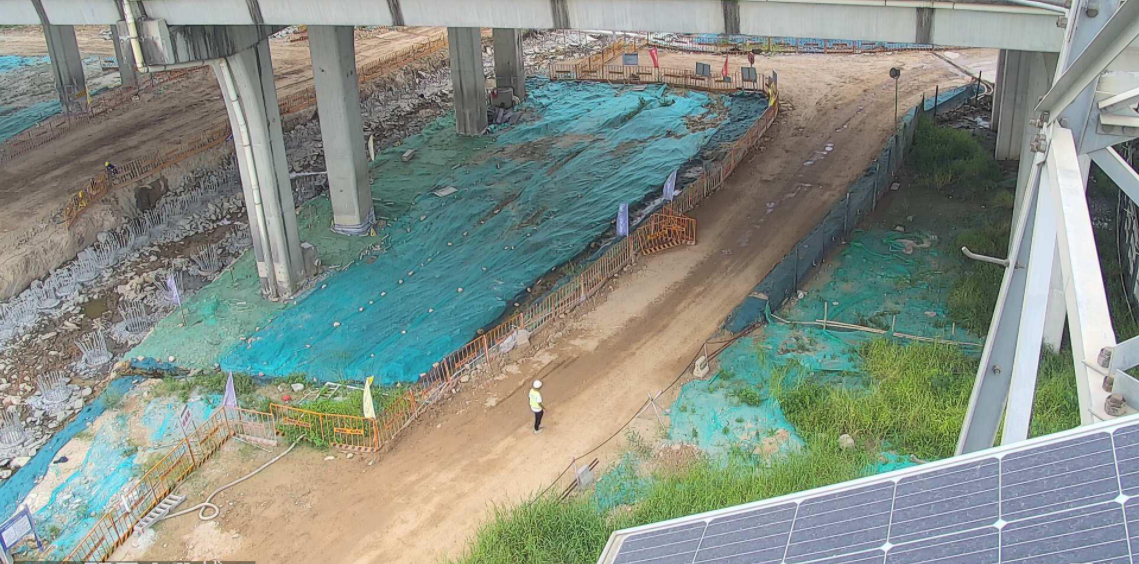绿膜: (115, 71, 770, 394), (718, 83, 985, 360), (0, 372, 238, 563), (590, 331, 873, 481), (690, 32, 932, 52), (587, 479, 662, 516), (0, 98, 62, 142), (860, 439, 923, 477), (0, 54, 52, 74), (88, 83, 108, 98), (79, 55, 100, 69), (238, 410, 258, 422)
